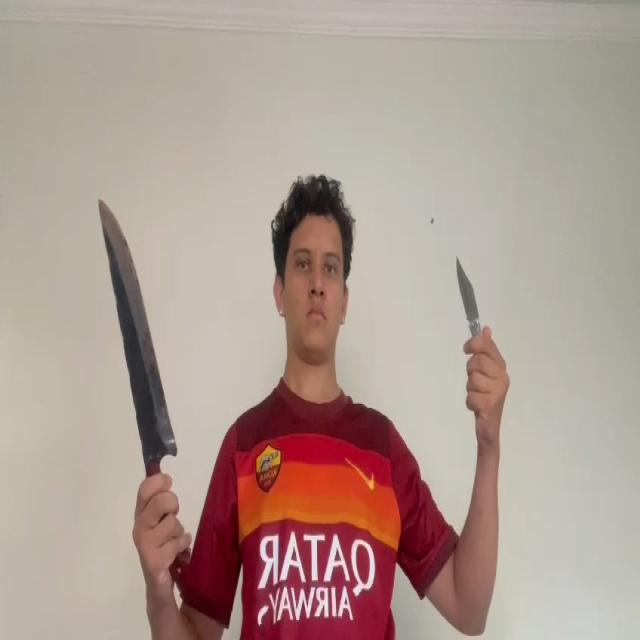knife: (98, 199, 176, 457), (455, 257, 480, 332)
